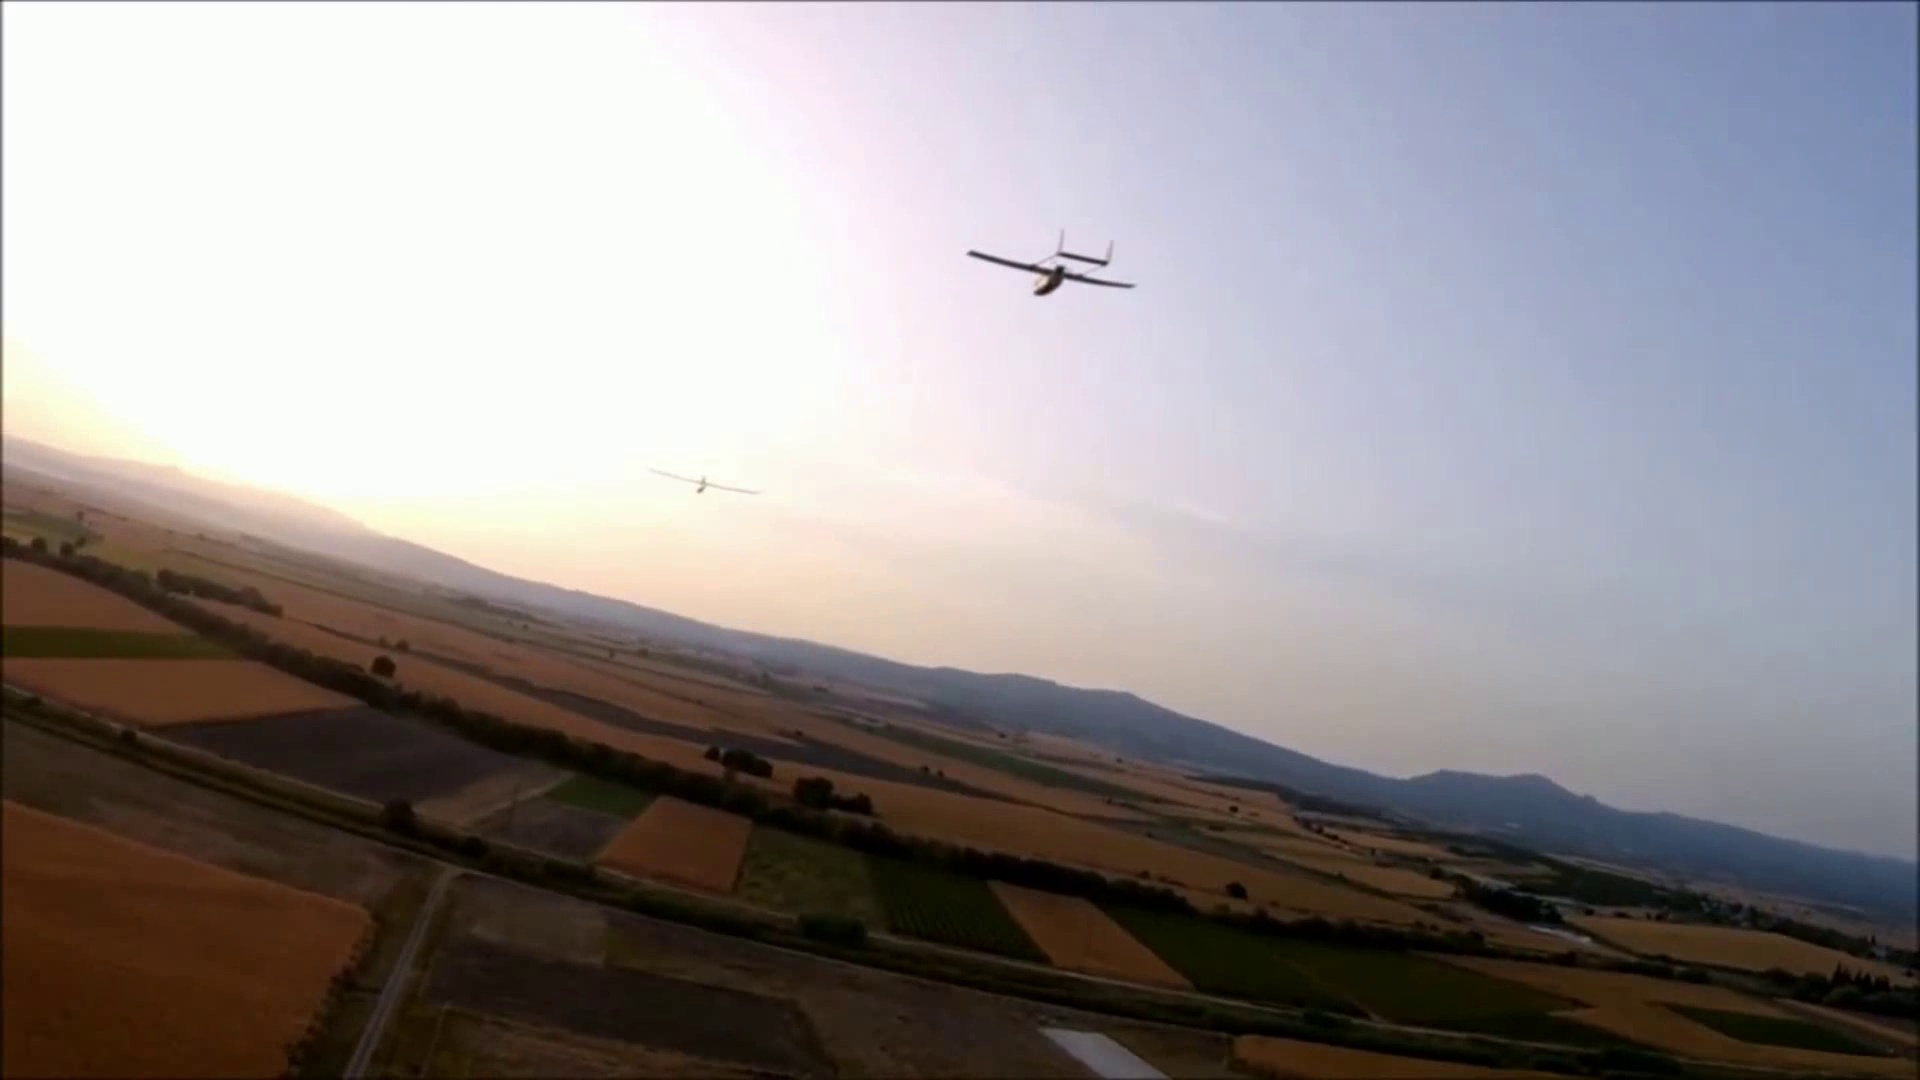airplane: (962, 228, 1136, 295)
